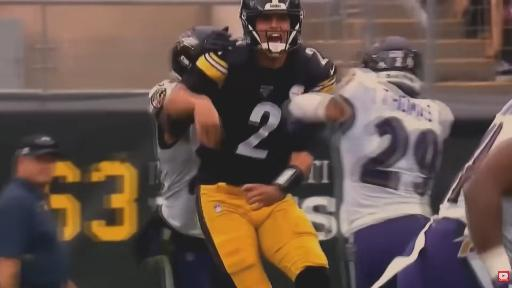Helmet: (240, 0, 303, 55), (169, 26, 220, 79), (361, 36, 423, 79)
Jersey: (182, 42, 336, 185), (339, 69, 453, 235), (439, 101, 511, 222), (156, 120, 203, 237)
Player: (164, 0, 335, 287), (340, 37, 453, 287), (383, 102, 511, 287), (139, 27, 229, 287)
